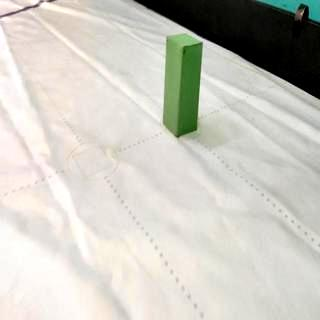greenbox: (162, 32, 204, 138)
